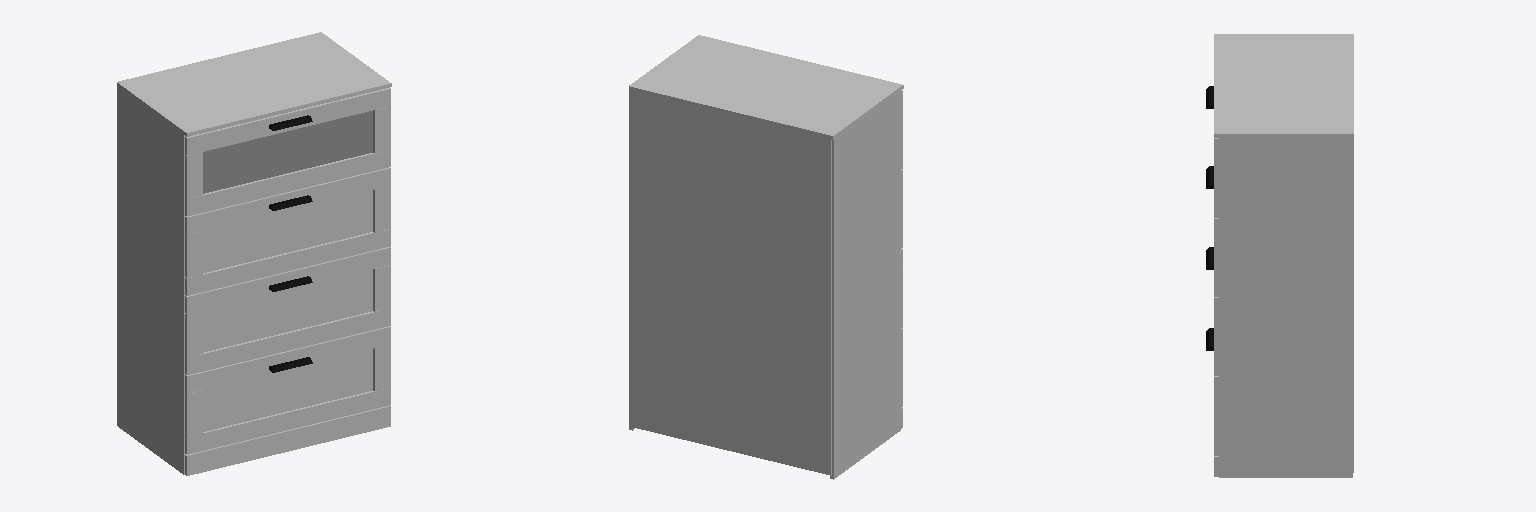
File: Брименс.obj
3 views of the same model, side by side, from view 1: azimuth 30°, elevation 25°; view 2: azimuth 150°, elevation 25°; view 3: azimuth 270°, elevation 25° (orthographic).
Parts seen in each view (by area): view 1: Cube.022_Cube.023, Cube.002_Cube.003, Cube.005_Cube.006, Cube.008_Cube.009, Cube_Cube.025, Plane.003_Plane.004; view 2: Cube.003_Cube.004, Cube.002_Cube.003; view 3: Cube.002_Cube.003, Cube.022_Cube.023, Plane.003_Plane.004.
Part boxes in pixels (left/top/right/bottom): Cube.022_Cube.023: left=185, top=167, right=390, bottom=454; Cube.002_Cube.003: left=117, top=32, right=391, bottom=474; Cube.005_Cube.006: left=185, top=88, right=390, bottom=216; Cube.008_Cube.009: left=203, top=111, right=372, bottom=193; Cube_Cube.025: left=185, top=406, right=390, bottom=475; Plane.003_Plane.004: left=269, top=115, right=312, bottom=372; Cube.003_Cube.004: left=631, top=91, right=831, bottom=475; Cube.002_Cube.003: left=629, top=35, right=903, bottom=479; Cube.002_Cube.003: left=1214, top=34, right=1353, bottom=477; Cube.022_Cube.023: left=1214, top=218, right=1218, bottom=455; Plane.003_Plane.004: left=1206, top=86, right=1213, bottom=350.
Bounding box in the file's own units: 1.56 × 2.51 × 0.9801.